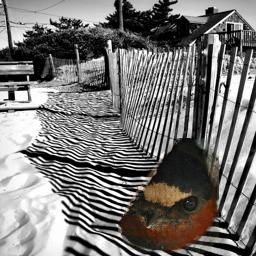Swallow: (118, 138, 219, 253)
